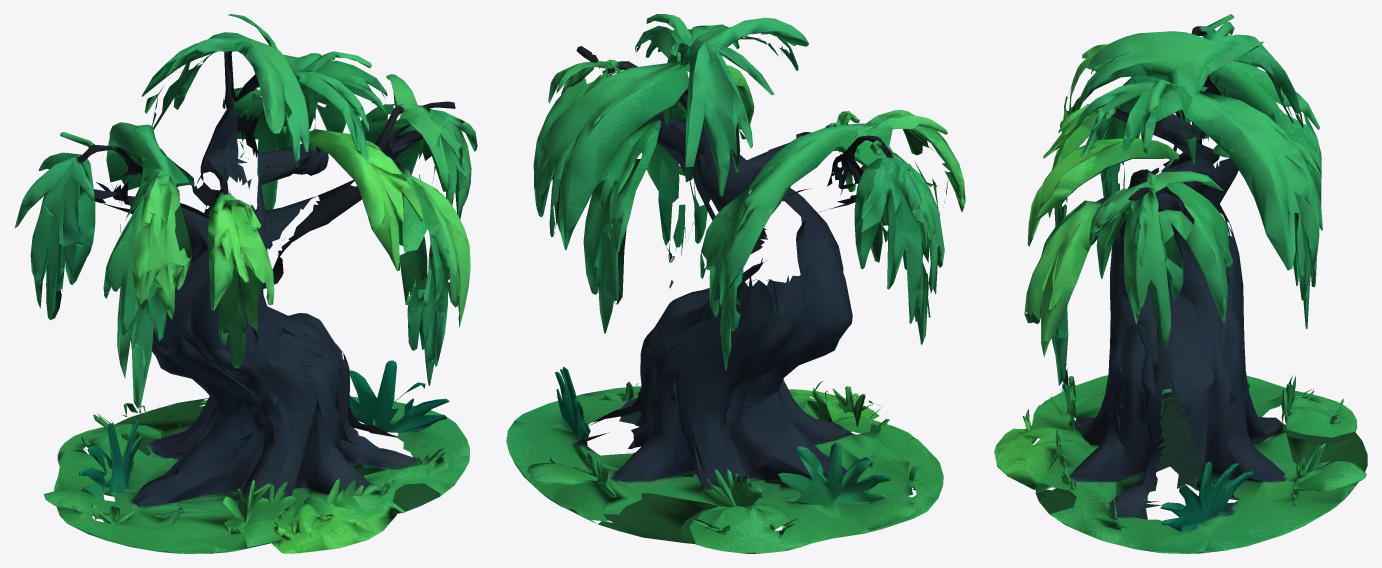
The model's file is tripo-salgueiro153.glb.
The picture shows the model from 3 angles, left to right: view 1: azimuth 30°, elevation 25°; view 2: azimuth 150°, elevation 25°; view 3: azimuth 270°, elevation 25°; orthographic projection. The views are drawn at different scales.
Parts seen in each view (by area): view 1: tripo_node_7a37d4e1-44f0-40f8-9c16-d926c437a040; view 2: tripo_node_7a37d4e1-44f0-40f8-9c16-d926c437a040; view 3: tripo_node_7a37d4e1-44f0-40f8-9c16-d926c437a040.
Part boxes in pixels (x1,y1,x2,y2): tripo_node_7a37d4e1-44f0-40f8-9c16-d926c437a040: (14, 14, 477, 553); tripo_node_7a37d4e1-44f0-40f8-9c16-d926c437a040: (506, 14, 965, 553); tripo_node_7a37d4e1-44f0-40f8-9c16-d926c437a040: (994, 14, 1367, 553).
Size of the model in its own units: 0.9783 by 0.9645 by 0.7665.
Materials: 1 (1 with a texture image).
